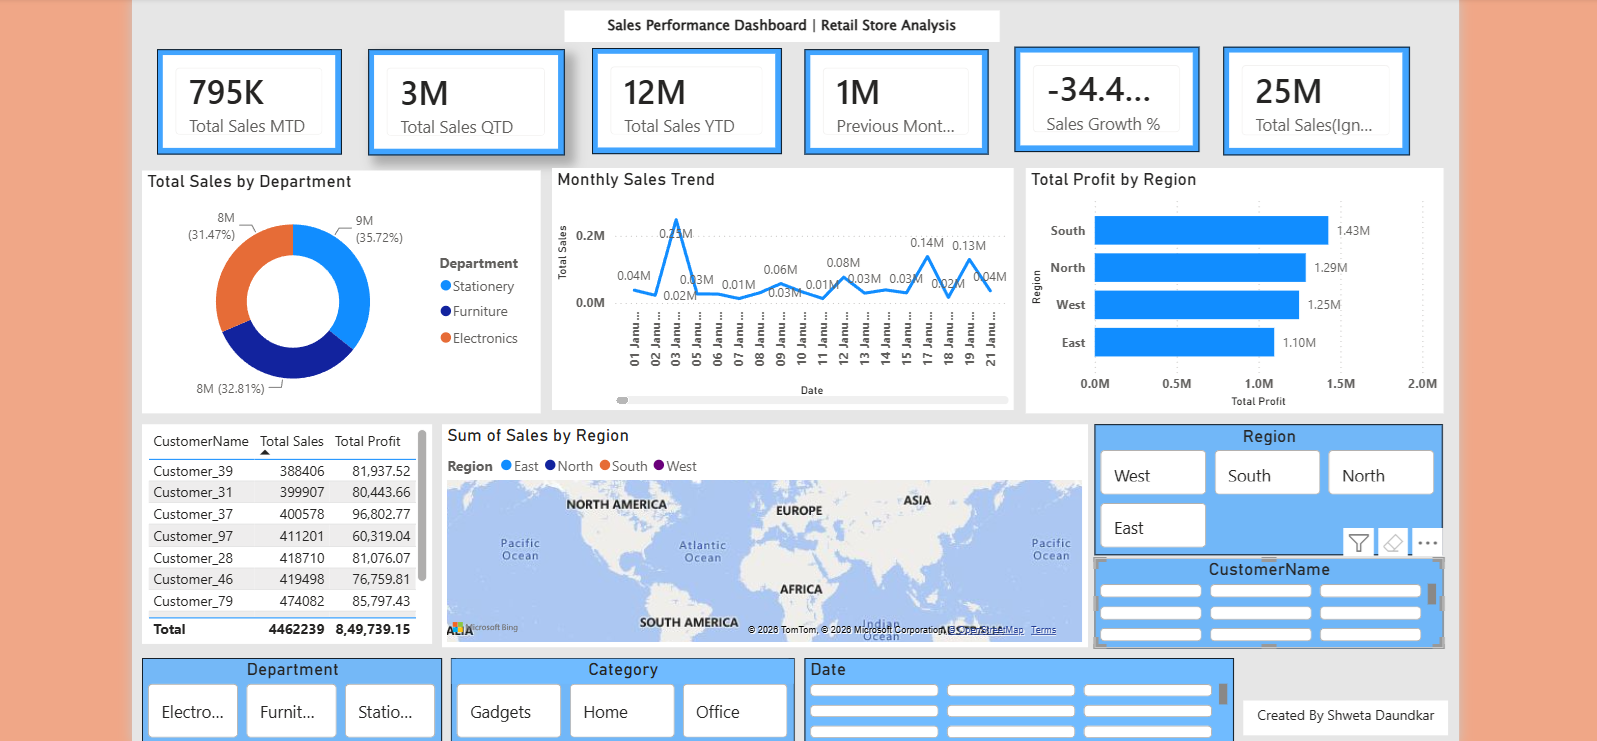

What the dashboard file says about the page in this screenshot:
{"tool":"powerbi","page":{"name":"Page 1","canvas":[1280,720],"ordinal":0},"visuals":[{"type":"cardVisual","fields":{"Data":["Sheet.Total Sales QTD"]},"box":[201.7,49.4,171.5,102.9],"z":0},{"type":"cardVisual","fields":{"Data":["Sheet.Total Sales MTD"]},"box":[19.2,50.8,171.5,101.5],"z":1000},{"type":"cardVisual","fields":{"Data":["Sheet.Total Sales YTD"]},"box":[378.8,49.5,170.1,102.5],"z":2000},{"type":"cardVisual","fields":{"Data":["Sheet.Previous Month Sales"]},"box":[558.6,50.7,179.8,101.3],"z":3000},{"type":"donutChart","fields":{"Category":["Sheet.Department"],"Y":["Sheet.Total Sales"]},"box":[9.7,166.5,384.9,234],"z":4000},{"type":"lineChart","title":"Monthly Sales Trend","fields":{"Category":["Date Table.Date.Variation.Date Hierarchy.Year"],"Y":["Sheet.Total Sales"]},"box":[404.8,164.7,446,233.3],"z":5000},{"type":"barChart","fields":{"Category":["Sheet.Region"],"Y":["Sheet.Total Profit"]},"box":[862.6,164.1,403,236.5],"z":6000},{"type":"tableEx","fields":{"Values":["Sheet.CustomerName","Sheet.Total Sales","Sheet.Total Profit"]},"box":[9.7,411.4,279.9,212.3],"z":7000},{"type":"advancedSlicerVisual","fields":{"Values":["Sheet.Department"]},"box":[9.7,637,289.5,83.2],"z":8000},{"type":"advancedSlicerVisual","fields":{"Values":["Sheet.Region"]},"box":[929,411.7,336.2,126.2],"z":9000},{"type":"advancedSlicerVisual","fields":{"Values":["Sheet.Category"]},"box":[307.6,637,331.8,83.2],"z":10000},{"type":"advancedSlicerVisual","fields":{"Values":["Sheet.CustomerName"]},"box":[929,537.9,341.7,86.4],"z":11000},{"type":"map","fields":{"Series":["Sheet.Region"],"Size":["Sum(Sheet.Sales)"]},"box":[299.1,411.7,623,215.4],"z":12000},{"type":"textbox","box":[417.4,12.1,419.8,30.2],"z":13000},{"type":"image","box":[1172.7,9.7,107.4,80.8],"z":14000},{"type":"textbox","box":[1072.5,678,197.9,33.8],"z":15000},{"type":"cardVisual","fields":{"Data":["Sheet.Total Sales(Ignore Region)"]},"box":[947.1,47.1,232.8,105],"z":16000},{"type":"cardVisual","fields":{"Data":["Sheet.Sales Growth %"]},"box":[749.2,49.5,179.8,101.3],"z":17000},{"type":"advancedSlicerVisual","fields":{"Values":["Date Table.Date"]},"box":[649.1,636.7,414.4,83.7],"z":18000}]}

Visuals, with their boxes on the page's 1280x720 design canvas (x1, y1, x2, y2). These are canvas units, not pixel positions in the 1597x741 screenshot, which may show the page scaled, cropped or inside an application window:
cardVisual - Sheet.Total Sales QTD: x1=202, y1=49, x2=373, y2=152
cardVisual - Sheet.Total Sales MTD: x1=19, y1=51, x2=191, y2=152
cardVisual - Sheet.Total Sales YTD: x1=379, y1=50, x2=549, y2=152
cardVisual - Sheet.Previous Month Sales: x1=559, y1=51, x2=738, y2=152
donutChart - Sheet.Department x Sheet.Total Sales: x1=10, y1=166, x2=395, y2=400
"Monthly Sales Trend" lineChart: x1=405, y1=165, x2=851, y2=398
barChart - Sheet.Region x Sheet.Total Profit: x1=863, y1=164, x2=1266, y2=401
tableEx - Sheet.CustomerName x Sheet.Total Sales: x1=10, y1=411, x2=290, y2=624
advancedSlicerVisual - Sheet.Department: x1=10, y1=637, x2=299, y2=720
advancedSlicerVisual - Sheet.Region: x1=929, y1=412, x2=1265, y2=538
advancedSlicerVisual - Sheet.Category: x1=308, y1=637, x2=639, y2=720
advancedSlicerVisual - Sheet.CustomerName: x1=929, y1=538, x2=1271, y2=624
map - Sheet.Region x Sum(Sheet.Sales): x1=299, y1=412, x2=922, y2=627
textbox: x1=417, y1=12, x2=837, y2=42
image: x1=1173, y1=10, x2=1280, y2=90
textbox: x1=1072, y1=678, x2=1270, y2=712
cardVisual - Sheet.Total Sales(Ignore Region): x1=947, y1=47, x2=1180, y2=152
cardVisual - Sheet.Sales Growth %: x1=749, y1=50, x2=929, y2=151
advancedSlicerVisual - Date Table.Date: x1=649, y1=637, x2=1064, y2=720
